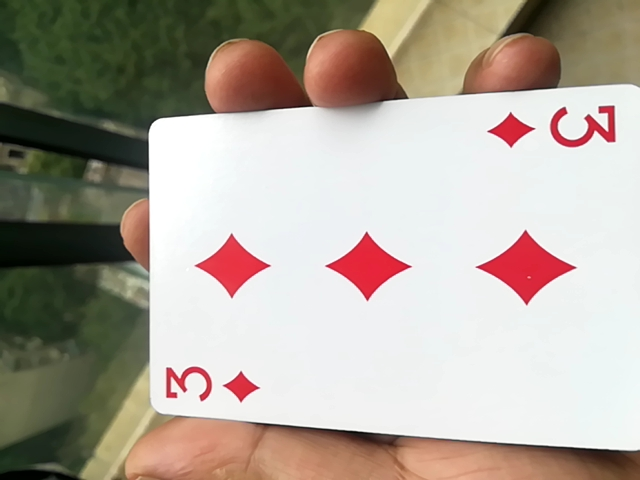fk 3: (131, 107, 633, 464)
